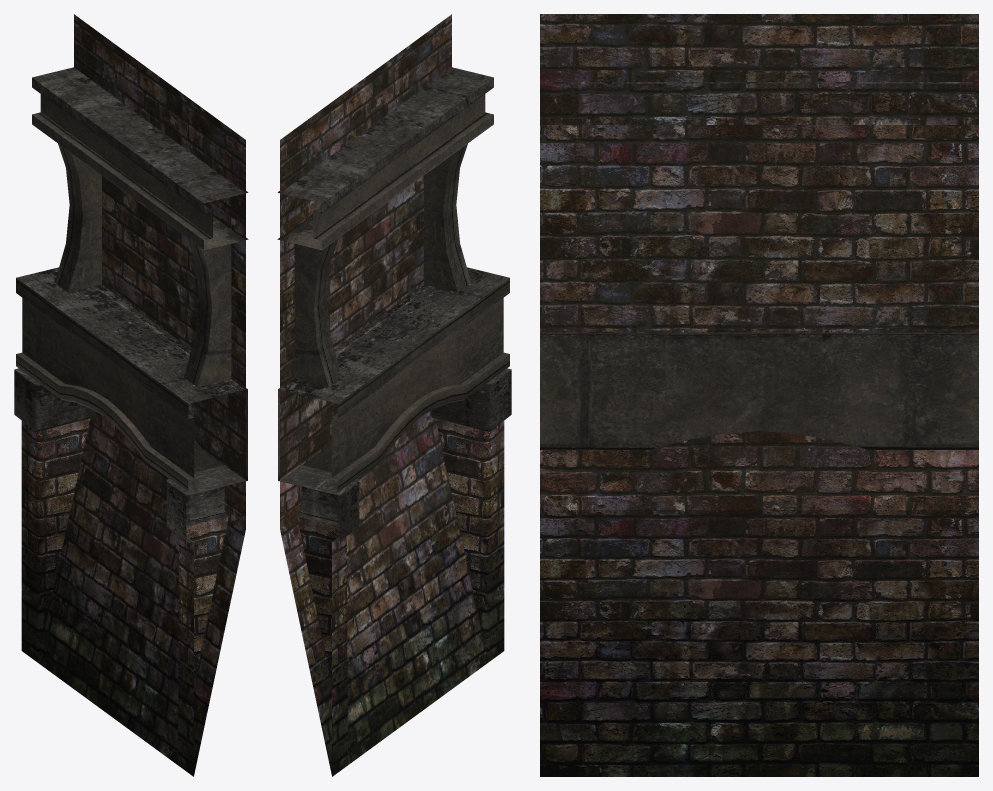
File: sewer_wall_high_small.DAE
3 renders of one model, left to right at view 1: azimuth 30°, elevation 25°; view 2: azimuth 150°, elevation 25°; view 3: azimuth 270°, elevation 25°, orthographic. The views are drawn at different scales.
Parts seen in each view (by area): view 1: sewer_wall_high, sewer_wall_high_support; view 2: sewer_wall_high, sewer_wall_high_support; view 3: sewer_wall_high, sewer_wall_high_support.
Boxes of the visible parts, bbox=[...] form: sewer_wall_high: bbox=[21, 14, 245, 776]; sewer_wall_high_support: bbox=[14, 67, 248, 542]; sewer_wall_high: bbox=[280, 14, 504, 776]; sewer_wall_high_support: bbox=[277, 67, 511, 542]; sewer_wall_high: bbox=[540, 14, 978, 776]; sewer_wall_high_support: bbox=[540, 82, 978, 449].
Size of the model in its own units: 0.4185 by 2 by 4.
